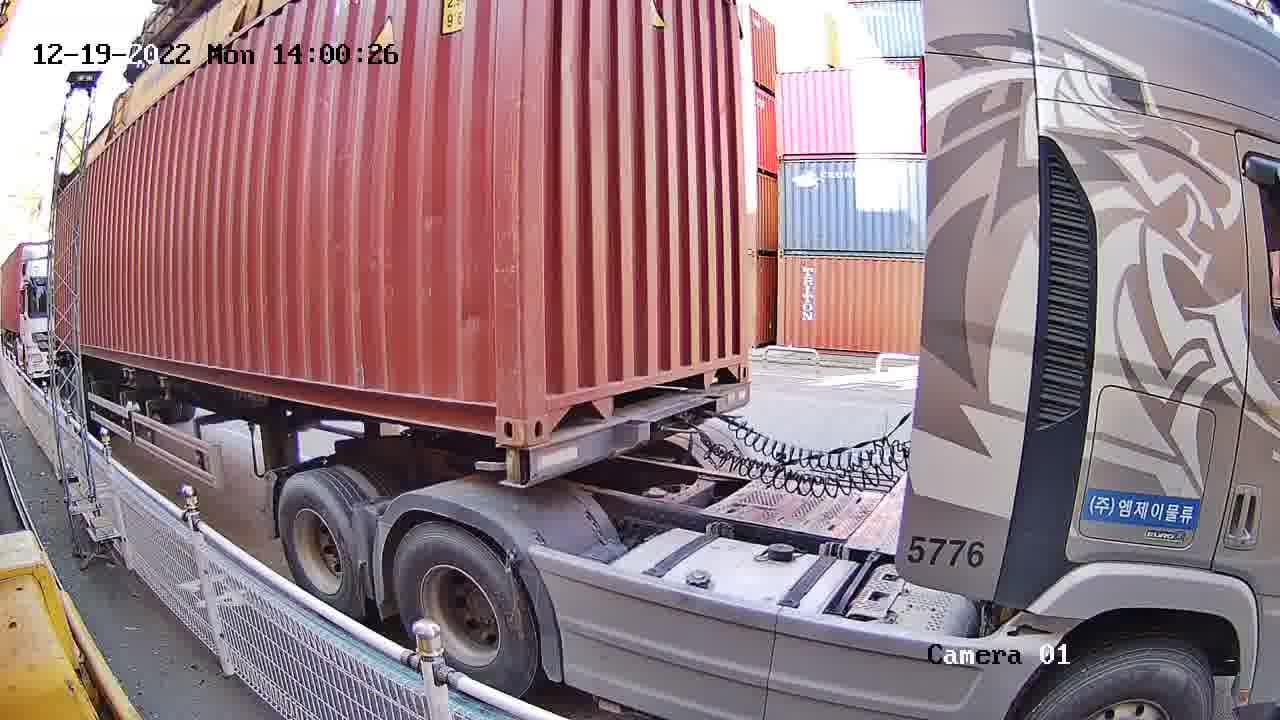Chassis: (499, 381, 749, 484)
Cone: (497, 442, 525, 484)
Hole_L: (521, 376, 576, 447)
Hole_R: (453, 380, 519, 448), (713, 340, 751, 388)
Tire: (392, 523, 535, 693), (277, 476, 357, 606)
